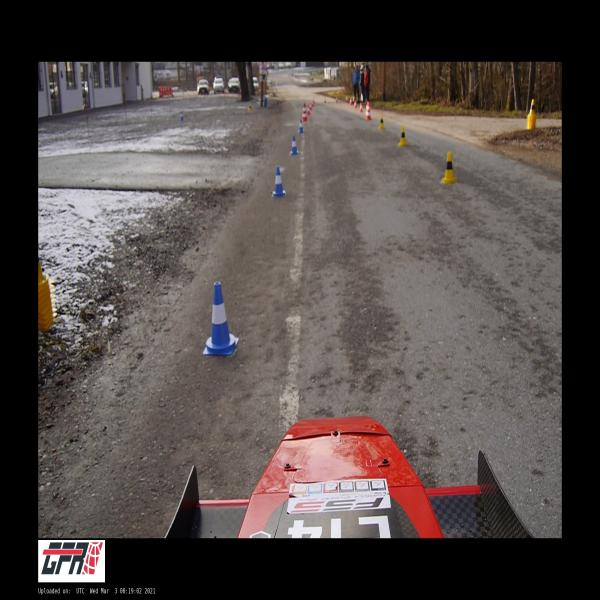blue_cone: (203, 282, 239, 356), (272, 167, 286, 197), (290, 135, 299, 155), (298, 118, 304, 132), (180, 111, 184, 120)
large_orange_cone: (301, 103, 308, 122), (365, 101, 372, 120)
orange_cone: (359, 102, 363, 112), (307, 106, 310, 115), (354, 100, 357, 108), (346, 96, 349, 102), (350, 98, 352, 105), (310, 103, 312, 110), (324, 96, 326, 103), (336, 97, 338, 102), (313, 99, 315, 103)
yellow_cone: (441, 152, 457, 184), (399, 127, 407, 146), (529, 99, 535, 115), (379, 115, 385, 129), (248, 103, 252, 112)
